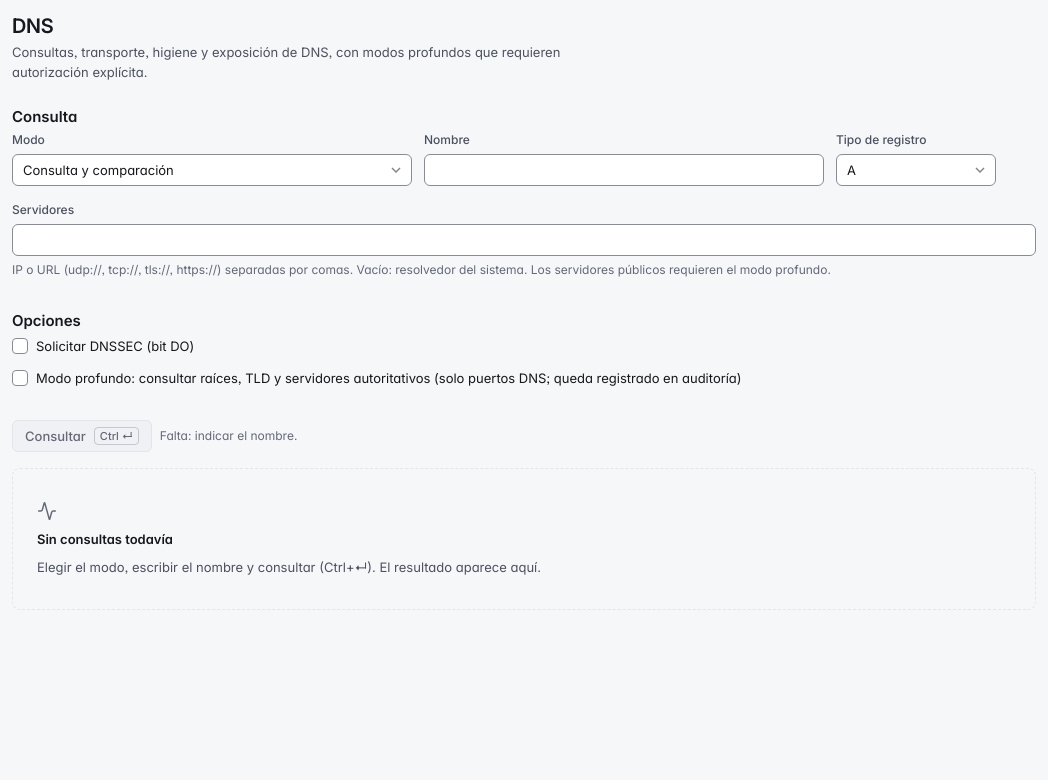
Test case: dns con servidores escritos y error legible
Type "example.com" into the field labelled "Nombre". click: (624, 170)
box: x1=424 y1=154 x2=824 y2=186
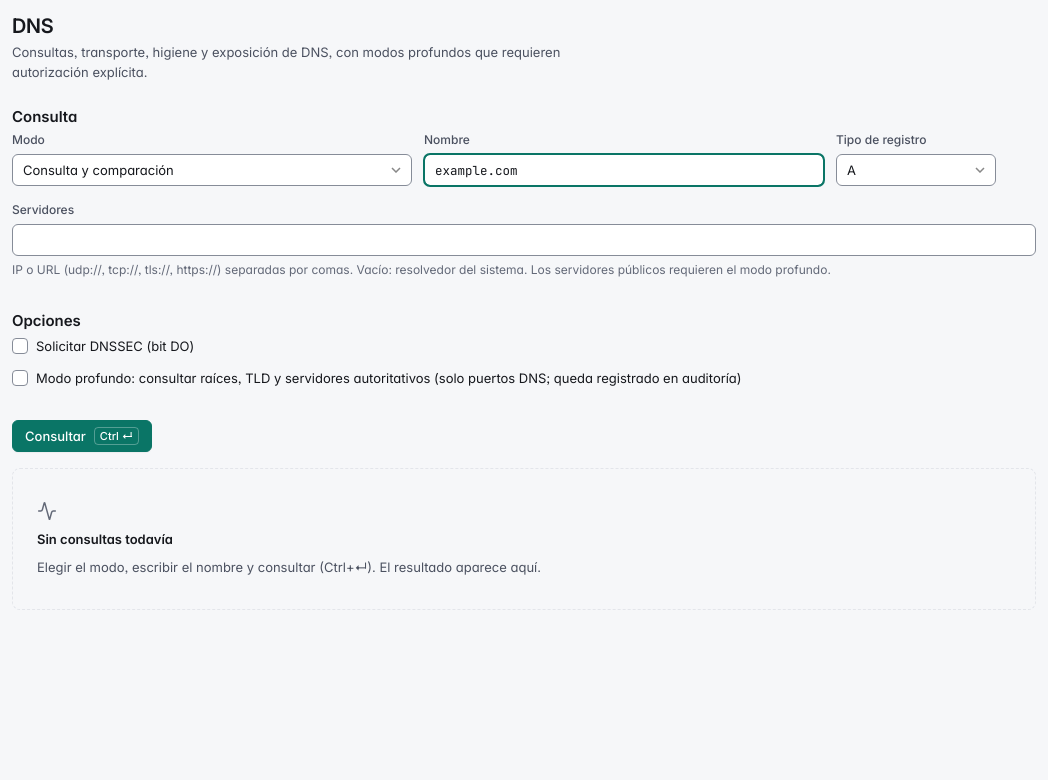
Type "1.1.1.1, tls://9.9.9.9" into the field labelled "Servidores". click: (524, 240)
box: x1=12 y1=224 x2=1036 y2=256
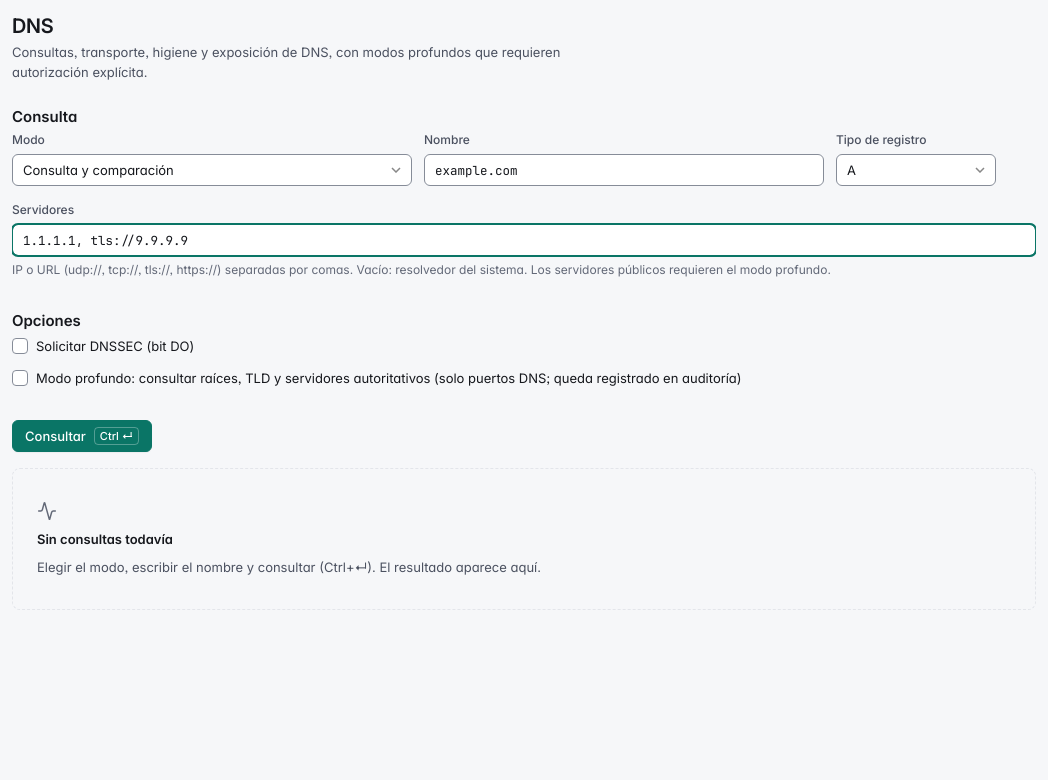
Click the button "Consultar Ctrl ↵". click: (82, 436)
box: x1=12 y1=420 x2=152 y2=452
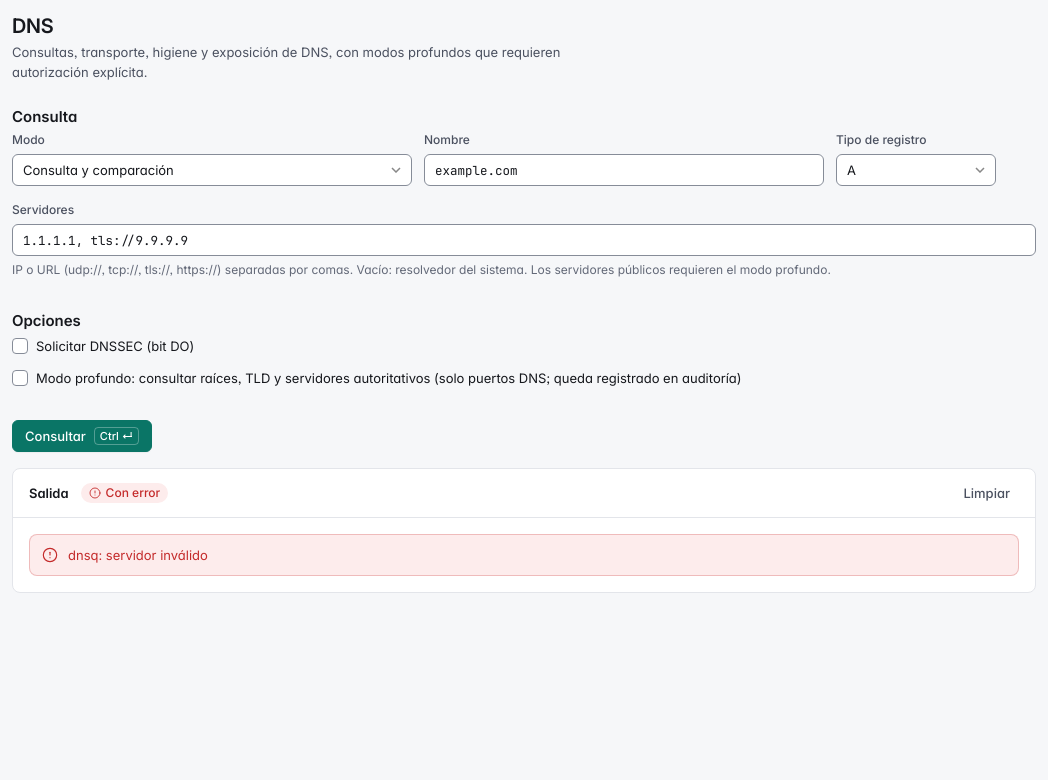
expect the message reads "dnsq: servidor inválido": met, box x1=68 y1=547 x2=208 y2=563
